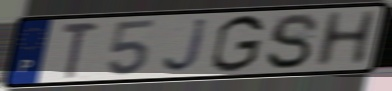5: (105, 17, 159, 78)
G: (208, 13, 267, 74)
H: (311, 8, 380, 70)
J: (160, 16, 211, 75)
S: (264, 11, 322, 72)
T: (59, 21, 102, 80)
